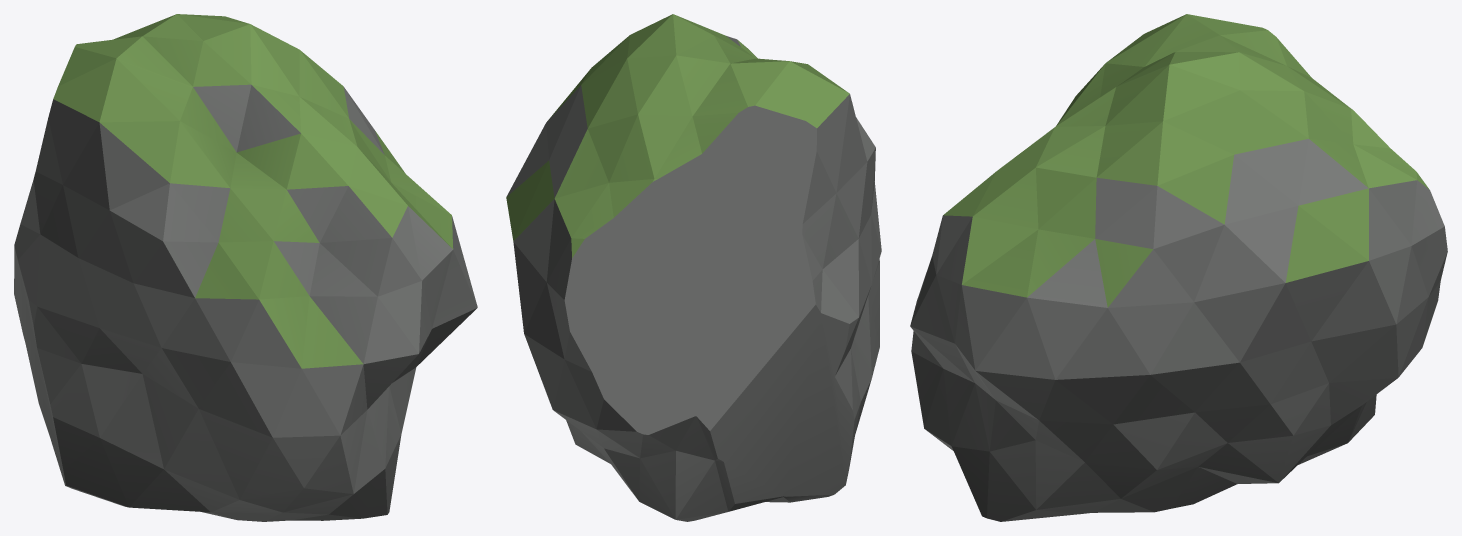
The model's file is obj_roca_grande.glb.
3 views of the same model, side by side, from view 1: azimuth 30°, elevation 25°; view 2: azimuth 150°, elevation 25°; view 3: azimuth 270°, elevation 25° (orthographic).
Parts seen in each view (by area): view 1: propforge-libre-roca_grande; view 2: propforge-libre-roca_grande; view 3: propforge-libre-roca_grande.
Part boxes in pixels (x1=…): propforge-libre-roca_grande: x1=14, y1=14, x2=477, y2=521; propforge-libre-roca_grande: x1=506, y1=14, x2=881, y2=521; propforge-libre-roca_grande: x1=910, y1=14, x2=1447, y2=521.
Bounding box in the file's own units: 0.7436 × 0.8831 × 0.9993.
